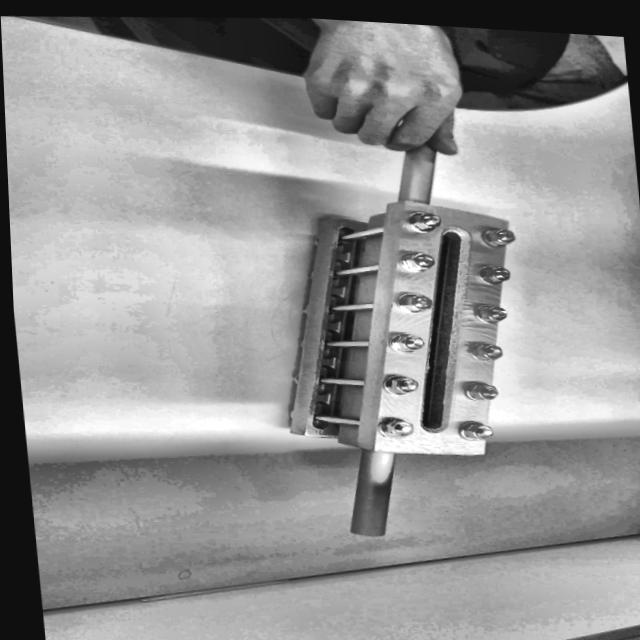ShuiWeiQi_12: (241, 127, 555, 556)
